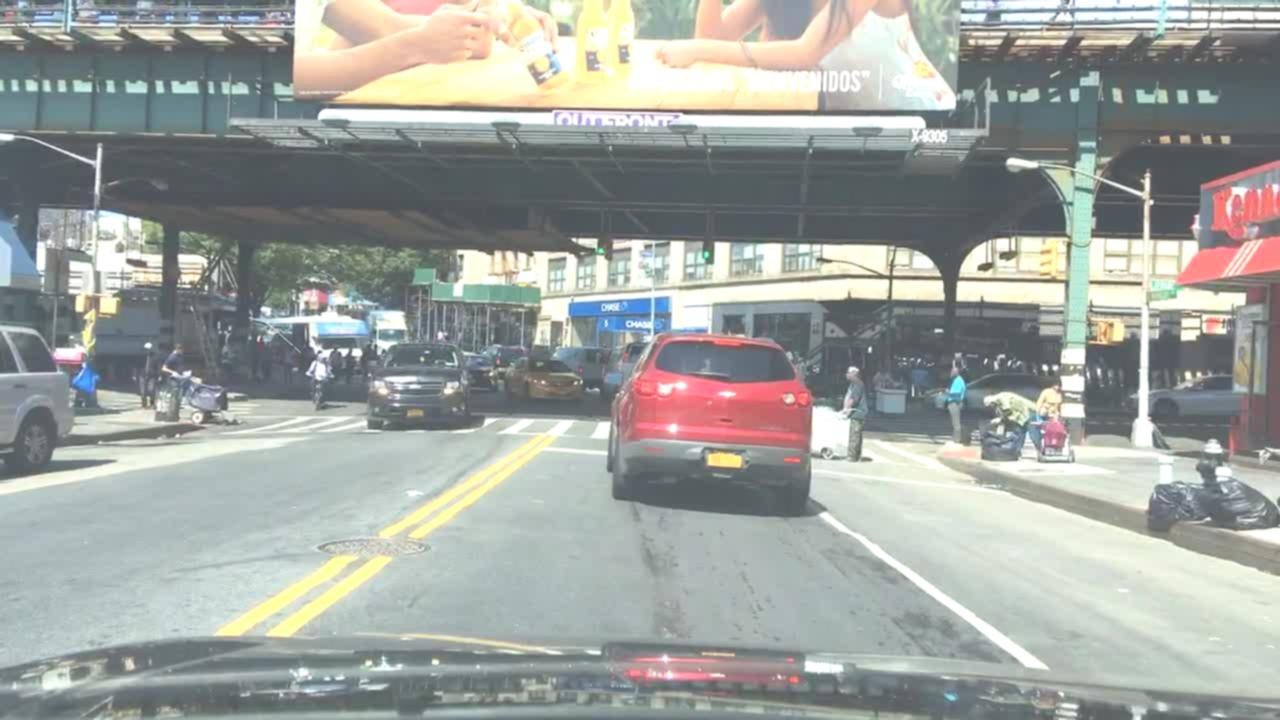chevrolet: (716, 384, 740, 401)
